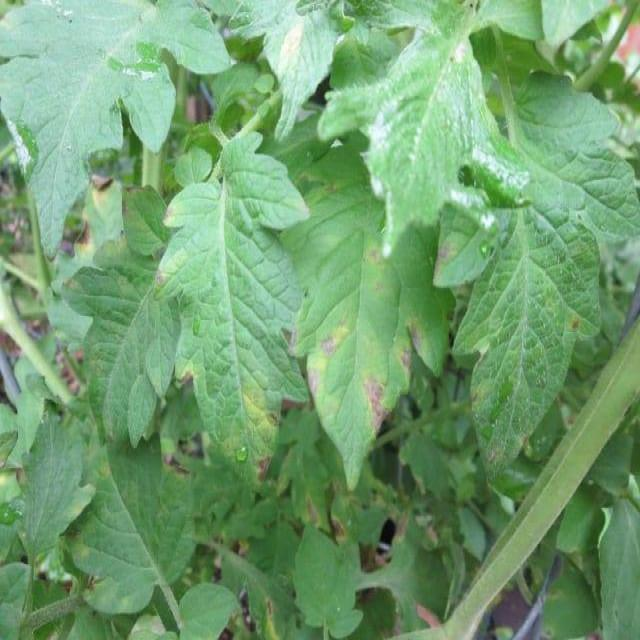blight: (311, 301, 401, 441)
